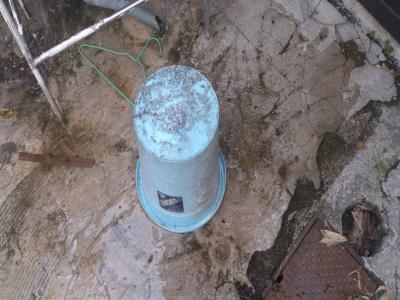bucket: (130, 62, 231, 238)
